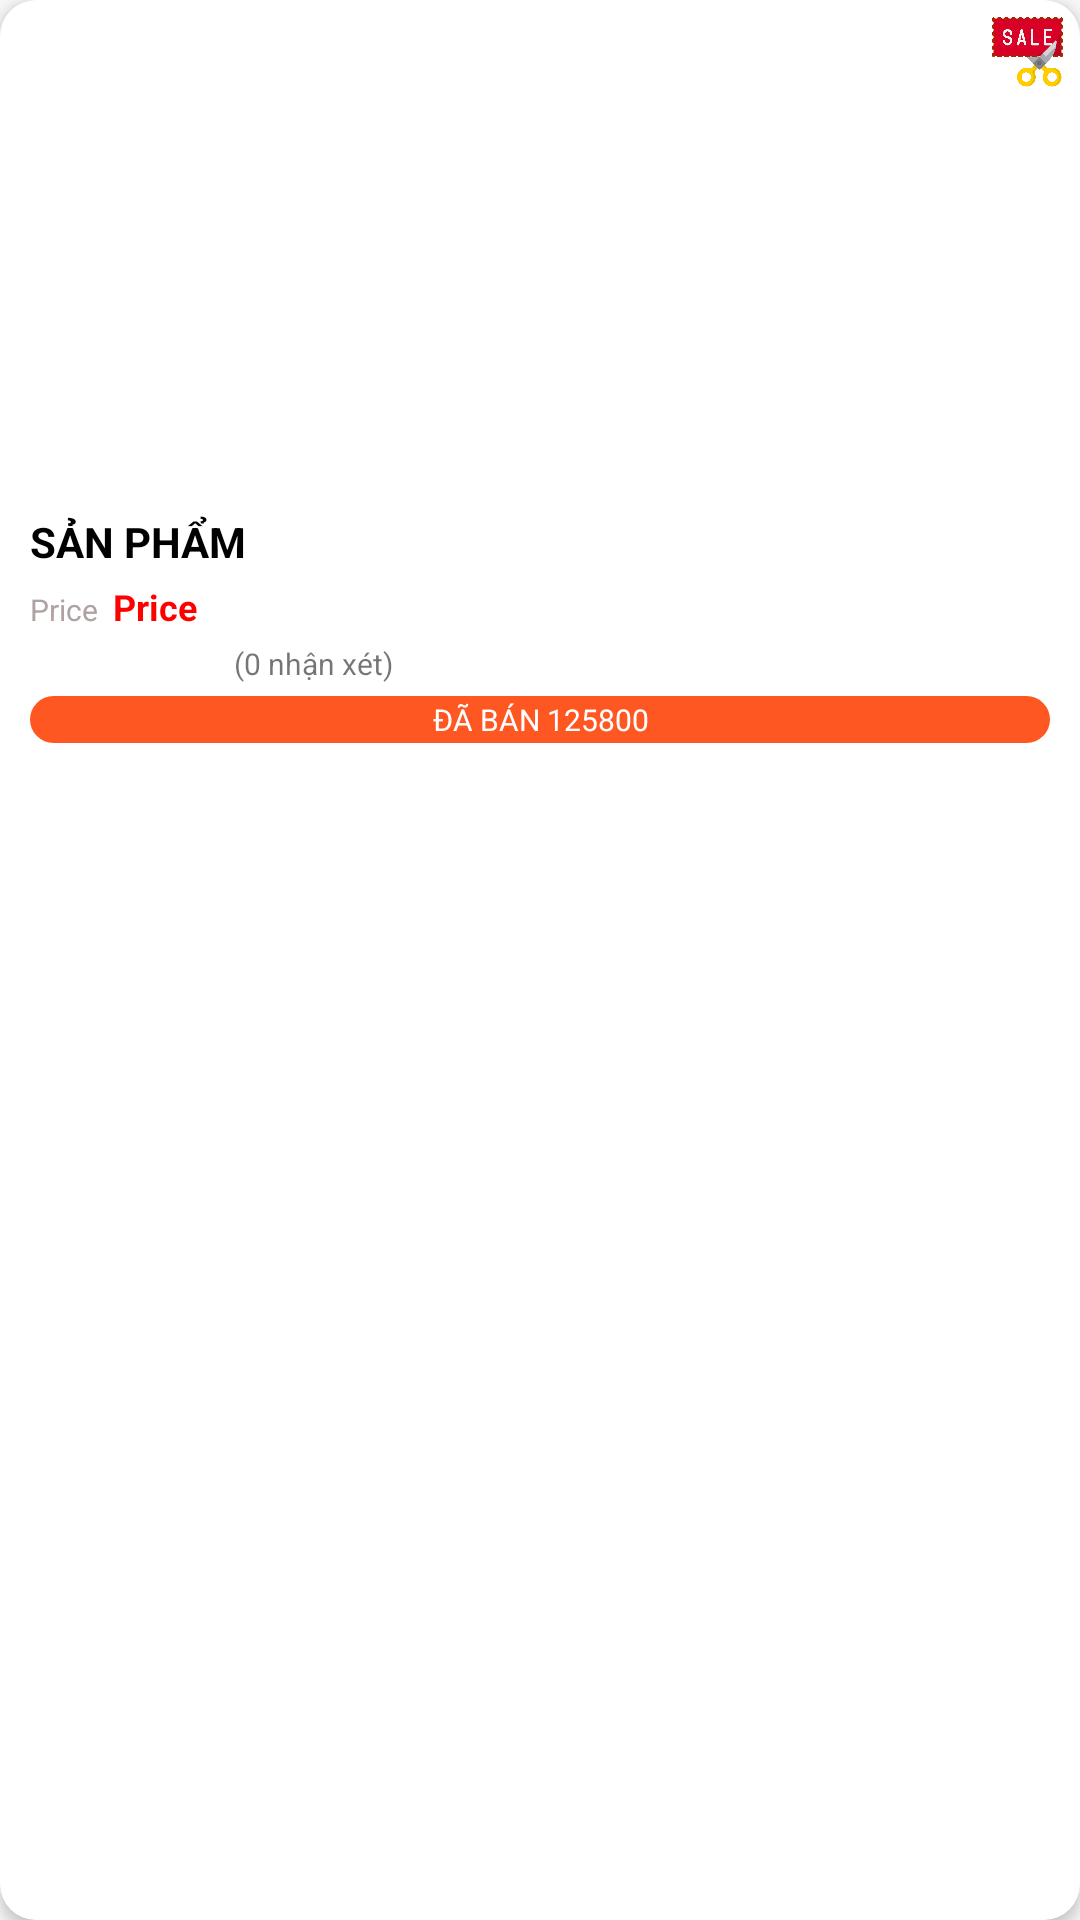

Icons on this 1080 × 1920 Android screen, each with the point to tap as point (x, y):
discount label: point (1027, 52)
